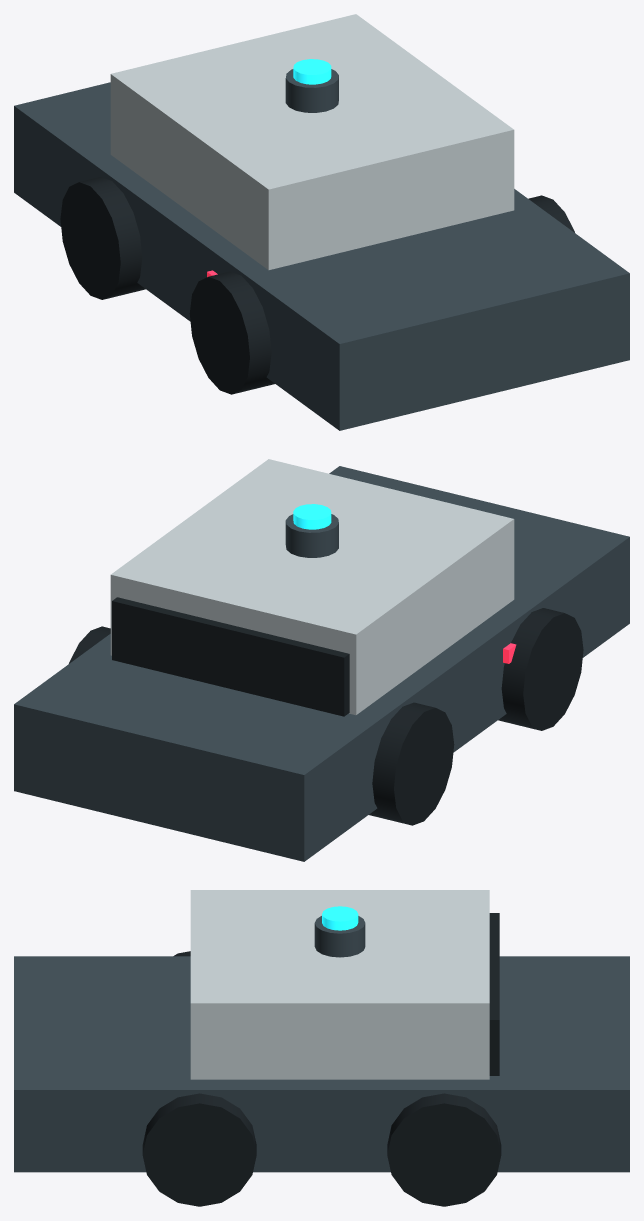
Rendered from vehicle.glb.
3 renders of one model, top to bottom at view 1: azimuth 30°, elevation 25°; view 2: azimuth 150°, elevation 25°; view 3: azimuth 270°, elevation 25°, orthographic. The views are drawn at different scales.
Parts seen in each view (by area): view 1: vehicle-0, vehicle-1, vehicle-3, vehicle-5, vehicle-7, vehicle-8; view 2: vehicle-0, vehicle-1, vehicle-2, vehicle-3, vehicle-5, vehicle-7, vehicle-8; view 3: vehicle-0, vehicle-1, vehicle-4, vehicle-6, vehicle-2, vehicle-7, vehicle-8.
Boxes of the visible parts, x1=… form: vehicle-0: x1=14, y1=82, x2=629, y2=430; vehicle-1: x1=110, y1=14, x2=514, y2=270; vehicle-3: x1=60, y1=177, x2=145, y2=299; vehicle-5: x1=189, y1=271, x2=274, y2=394; vehicle-7: x1=285, y1=69, x2=338, y2=112; vehicle-8: x1=293, y1=59, x2=331, y2=84; vehicle-0: x1=14, y1=466, x2=629, y2=861; vehicle-1: x1=110, y1=459, x2=514, y2=715; vehicle-2: x1=112, y1=597, x2=349, y2=716; vehicle-3: x1=369, y1=702, x2=454, y2=825; vehicle-5: x1=498, y1=608, x2=583, y2=730; vehicle-7: x1=285, y1=514, x2=338, y2=557; vehicle-8: x1=293, y1=504, x2=331, y2=529; vehicle-0: x1=14, y1=956, x2=629, y2=1172; vehicle-1: x1=190, y1=890, x2=489, y2=1079; vehicle-4: x1=387, y1=1093, x2=501, y2=1206; vehicle-6: x1=142, y1=1093, x2=256, y2=1206; vehicle-2: x1=489, y1=913, x2=499, y2=1075; vehicle-7: x1=314, y1=916, x2=365, y2=957; vehicle-8: x1=322, y1=906, x2=358, y2=930.
Bounding box in the file's own units: 4.02 × 2.63 × 6.8.
